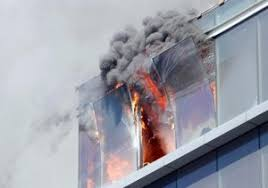smoke: (106, 33, 149, 77), (151, 18, 202, 45)
